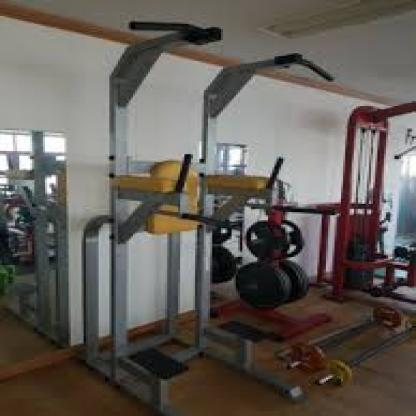chinning dipping: (72, 17, 332, 416)
